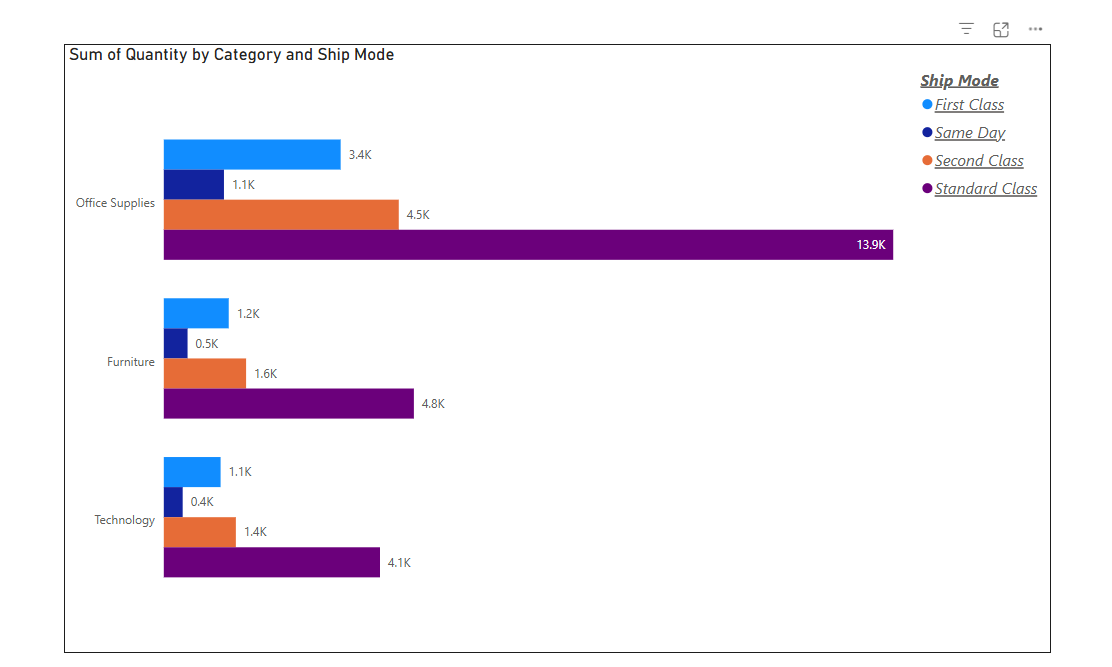

What the dashboard file says about the page in this screenshot:
{"tool":"powerbi","page":{"name":"Cluster Bar","canvas":[1280,720],"ordinal":4},"visuals":[{"type":"clusteredBarChart","fields":{"Category":["Sheet1.Category"],"Y":["Sum(Sheet1.Quantity)"],"Series":["Sheet1.Ship Mode"]},"box":[160,75,987.5,608.8],"z":0}]}

Visuals, with their boxes on the page's 1280x720 design canvas (x1, y1, x2, y2). These are canvas units, not pixel positions in the 1112x667 screenshot, which may show the page scaled, cropped or inside an application window:
clusteredBarChart - Sheet1.Category x Sum(Sheet1.Quantity): {"left": 160, "top": 75, "right": 1148, "bottom": 684}
